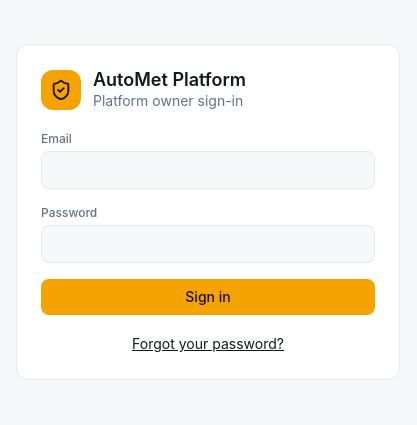
Test: the two sign-ins › a business admin is refused on the platform page, with a link to theirs, and no session is kept
The width and height of the screenshot is (417, 425).
Type "b@x.test" into the field labelled "Email" at (208, 170), box [41,151,375,189]
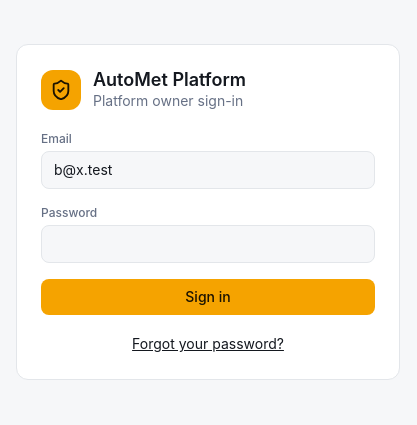
Type "a-long-password" into the password field labelled "Password" at (208, 244), box [41,225,375,263]
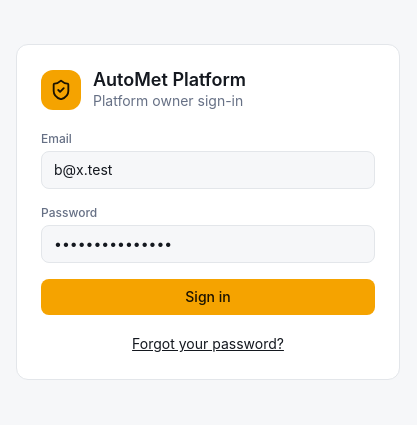
Click the button "Sign in" at (208, 297), box [41,279,375,315]
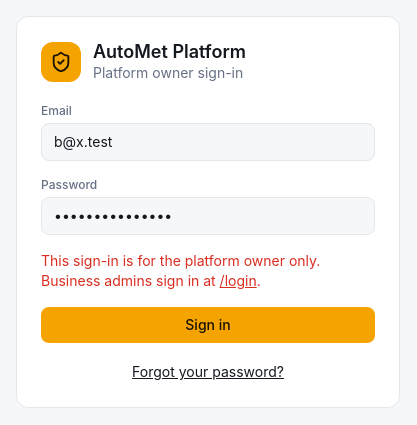
Expected: the message shows "platform owner only", [41,252,320,289]
Expected: the link "/login" is shown, [220,272,257,289]
